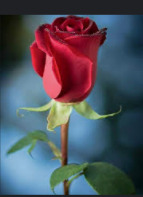RedRose: (27, 13, 108, 113)
